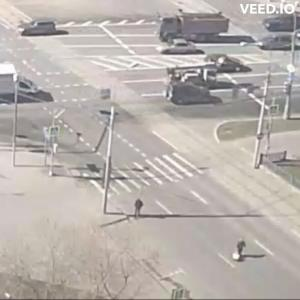car: (156, 16, 230, 41), (164, 66, 220, 89), (1, 67, 40, 99), (170, 85, 223, 107), (15, 18, 60, 38), (158, 39, 207, 57), (264, 16, 300, 40), (256, 36, 300, 53), (204, 55, 242, 74)
